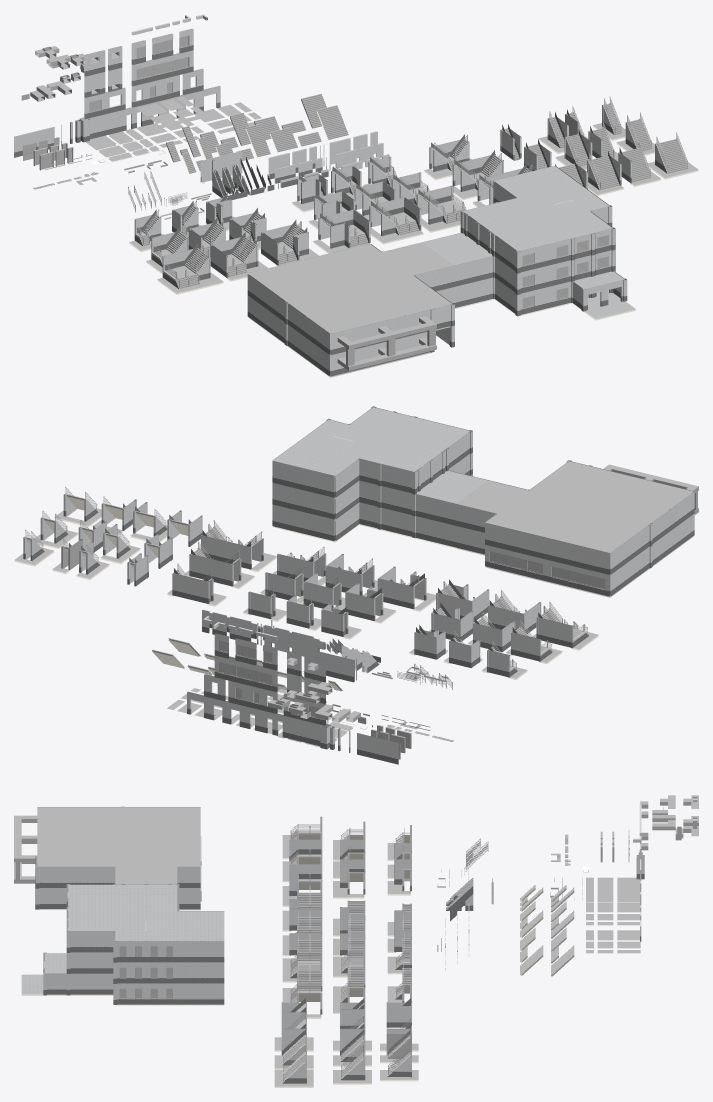
File: Interiors_A.fbx
3 views of the same model, one above another, from view 1: azimuth 30°, elevation 25°; view 2: azimuth 150°, elevation 25°; view 3: azimuth 270°, elevation 25° (orthographic). The views are drawn at different scales.
Parts seen in each view (by area): view 1: Demo_CFW, Stairs_3m_A_Wall, Stairs_3m_A_Wall_Flipped, Stairs_3m_B_Wall, Stairs_3m_B_Wall_Flipped, Stairs_2m_D_Wall, Stairs_3m_C_Stair_Flipped, Stairs_3m_C_Wall, Stairs_1m_D_Wall, Stairs_B_3x3, Stairs_2m_A_Wall, Stairs_3m_G_Stair (+8 smaller); view 2: Demo_CFW, Stairs_3m_D_Wall, Stairs_3m_A_Wall, Stairs_2m_D_Wall, Stairs_3m_B_Wall, Stairs_3m_A_Wall_Flipped, Stairs_2m_A_Wall, Stairs_3m_B_Wall_Flipped, Stairs_2m_A_Wall_Flipped, Stairs_3m_C_Wall_Flipped, Stairs_1m_D_Wall, Stairs_3m_C_Wall (+12 smaller); view 3: Demo_CFW, Stairs_3m_D_Stair, Stairs_3m_C_Stair, Stairs_1m_E_Wall, Stairs_2m_E_Wall, Stairs_3m_A_Wall_Flipped, Stairs_3m_A_Wall, Stairs_3m_E_Wall, Stairs_2m_A_Wall_Flipped, Stairs_2m_D_Stair, Stairs_2m_C_Stair, Stairs_3m_B_Wall_Flipped.
Part boxes in pixels (bbox=[...]): Demo_CFW: bbox=[247, 166, 635, 377]; Stairs_3m_A_Wall: bbox=[318, 209, 370, 248]; Stairs_3m_A_Wall_Flipped: bbox=[261, 224, 308, 265]; Stairs_3m_B_Wall: bbox=[369, 197, 421, 236]; Stairs_3m_B_Wall_Flipped: bbox=[210, 236, 258, 277]; Stairs_2m_D_Wall: bbox=[452, 154, 503, 191]; Stairs_3m_C_Stair_Flipped: bbox=[164, 248, 208, 288]; Stairs_3m_C_Wall: bbox=[416, 185, 464, 224]; Stairs_1m_D_Wall: bbox=[429, 139, 469, 171]; Stairs_B_3x3: bbox=[317, 105, 348, 139]; Stairs_2m_A_Wall: bbox=[314, 191, 355, 219]; Stairs_3m_G_Stair: bbox=[657, 139, 688, 173]; Demo_CFW: bbox=[272, 406, 698, 597]; Stairs_3m_D_Wall: bbox=[201, 526, 263, 569]; Stairs_3m_A_Wall: bbox=[377, 566, 426, 609]; Stairs_2m_D_Wall: bbox=[189, 548, 241, 586]; Stairs_3m_B_Wall: bbox=[325, 554, 374, 595]; Stairs_3m_A_Wall_Flipped: bbox=[436, 584, 489, 622]; Stairs_2m_A_Wall: bbox=[345, 583, 383, 621]; Stairs_3m_B_Wall_Flipped: bbox=[488, 596, 541, 633]; Stairs_2m_A_Wall_Flipped: bbox=[431, 607, 473, 642]; Stairs_3m_C_Wall_Flipped: bbox=[536, 608, 588, 648]; Stairs_1m_D_Wall: bbox=[172, 570, 213, 603]; Stairs_3m_C_Wall: bbox=[277, 553, 326, 581]; Demo_CFW: bbox=[14, 806, 224, 1005]; Stairs_3m_D_Stair: bbox=[290, 970, 321, 1002]; Stairs_3m_C_Stair: bbox=[290, 940, 321, 976]; Stairs_1m_E_Wall: bbox=[386, 1002, 411, 1027]; Stairs_2m_E_Wall: bbox=[340, 1002, 365, 1028]; Stairs_3m_A_Wall_Flipped: bbox=[289, 864, 322, 896]; Stairs_3m_A_Wall: bbox=[289, 892, 322, 930]; Stairs_3m_E_Wall: bbox=[281, 1002, 306, 1028]; Stairs_2m_A_Wall_Flipped: bbox=[340, 859, 365, 894]; Stairs_2m_D_Stair: bbox=[341, 968, 364, 1001]; Stairs_2m_C_Stair: bbox=[341, 938, 364, 971]; Stairs_3m_B_Wall_Flipped: bbox=[289, 839, 322, 864].
Size of the model in its own units: 76.5 by 13.83 by 88.
